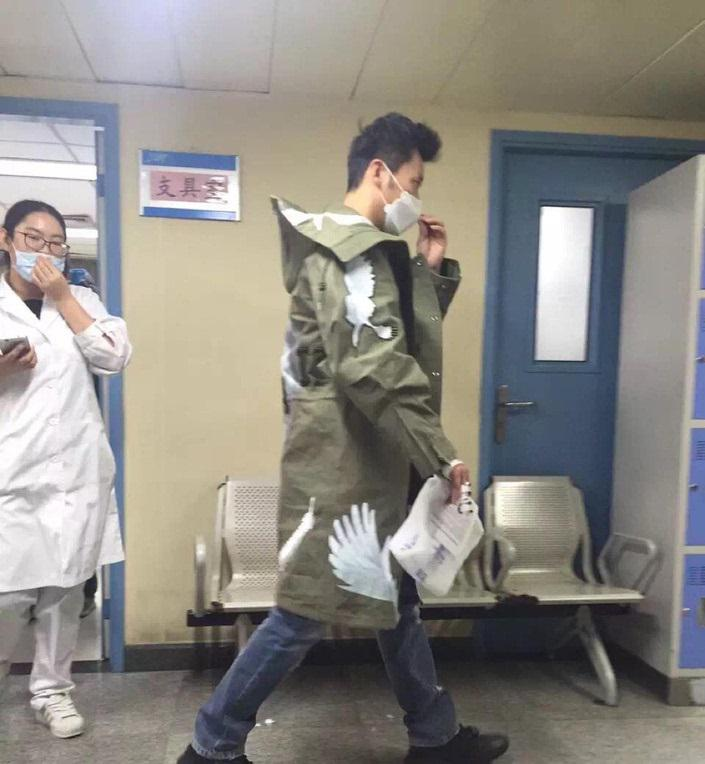OK: (362, 161, 426, 231)
WRONG: (13, 226, 68, 286)
